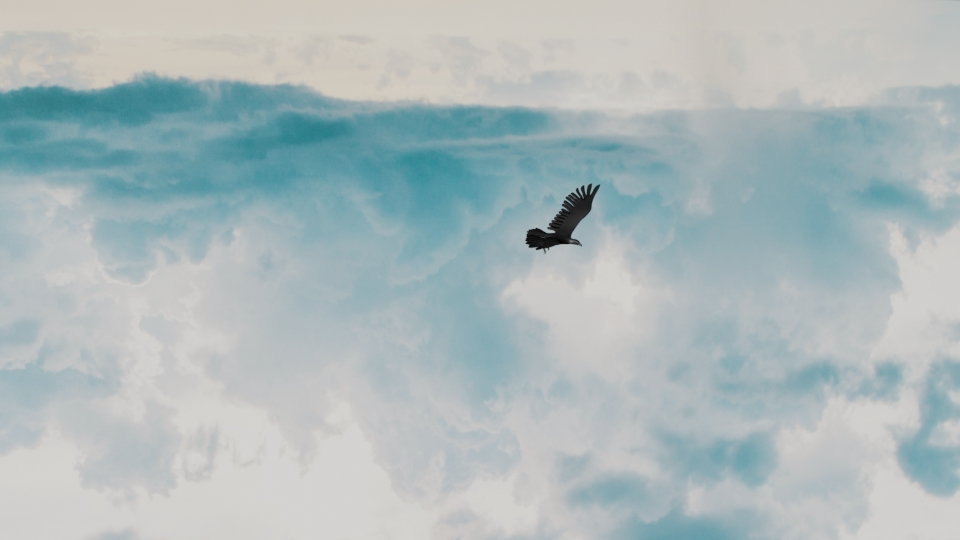bird: (518, 181, 599, 255)
